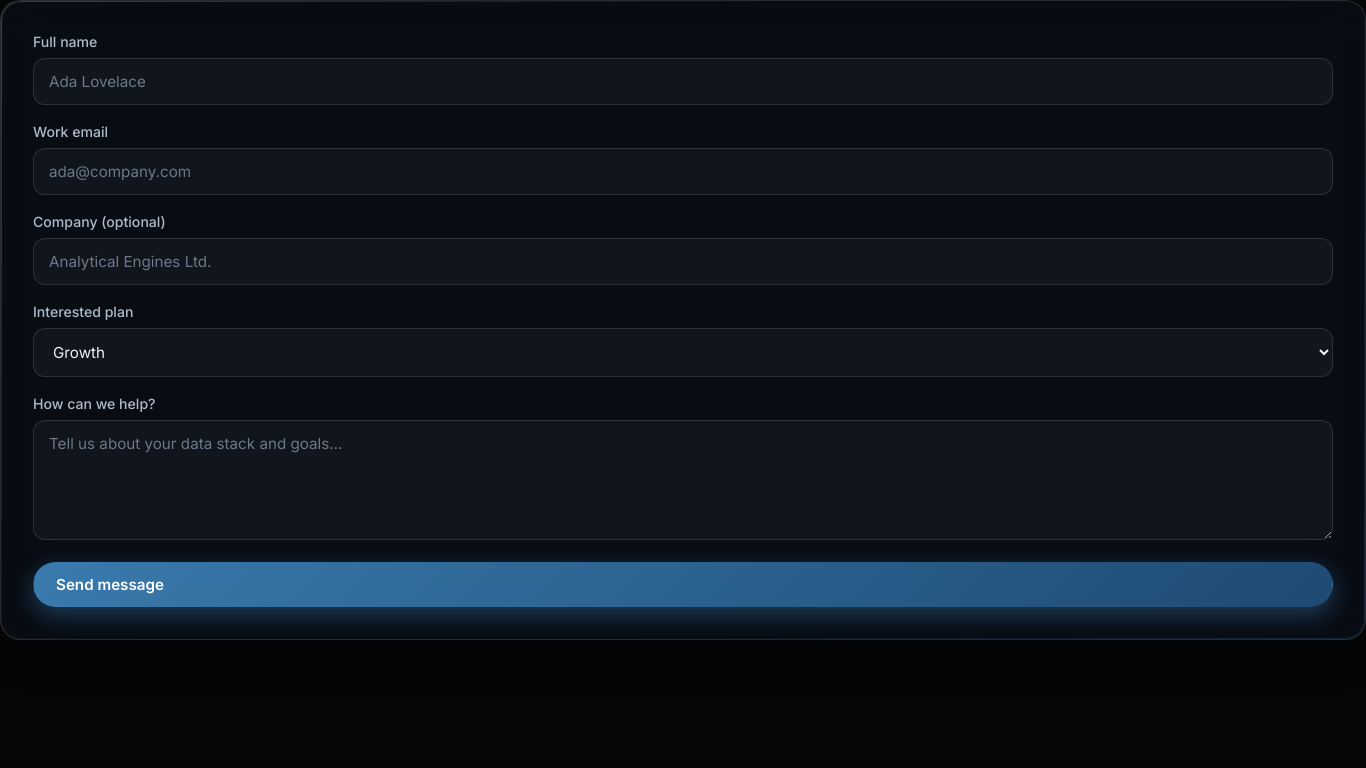
it: <ContactForm /> › clears a field error once the user starts typing
Click the button "Send message": (110, 584) [33,562,1333,607]
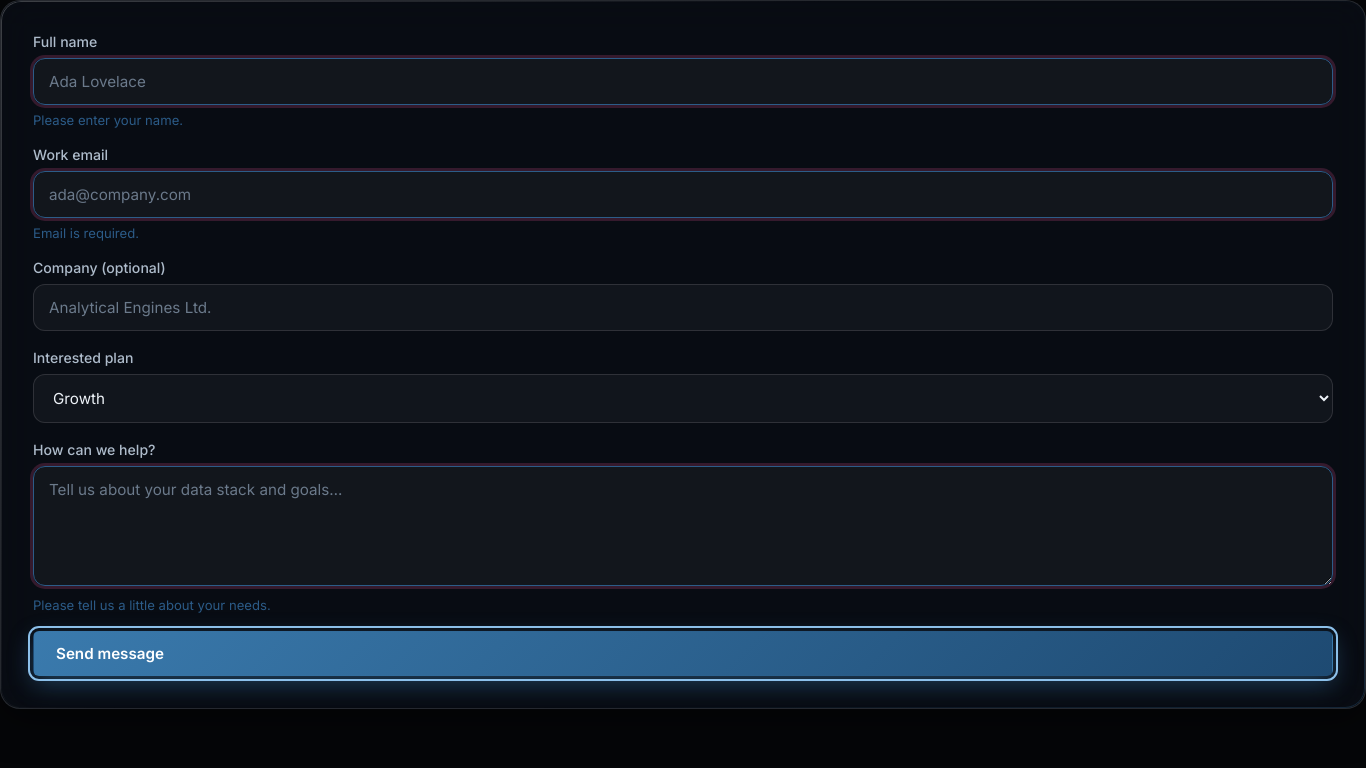
Result: the text "Please enter your name." is shown at [33,112,183,128]
In the field labelled "Full name": (683, 82) [33,58,1333,105], type "A"
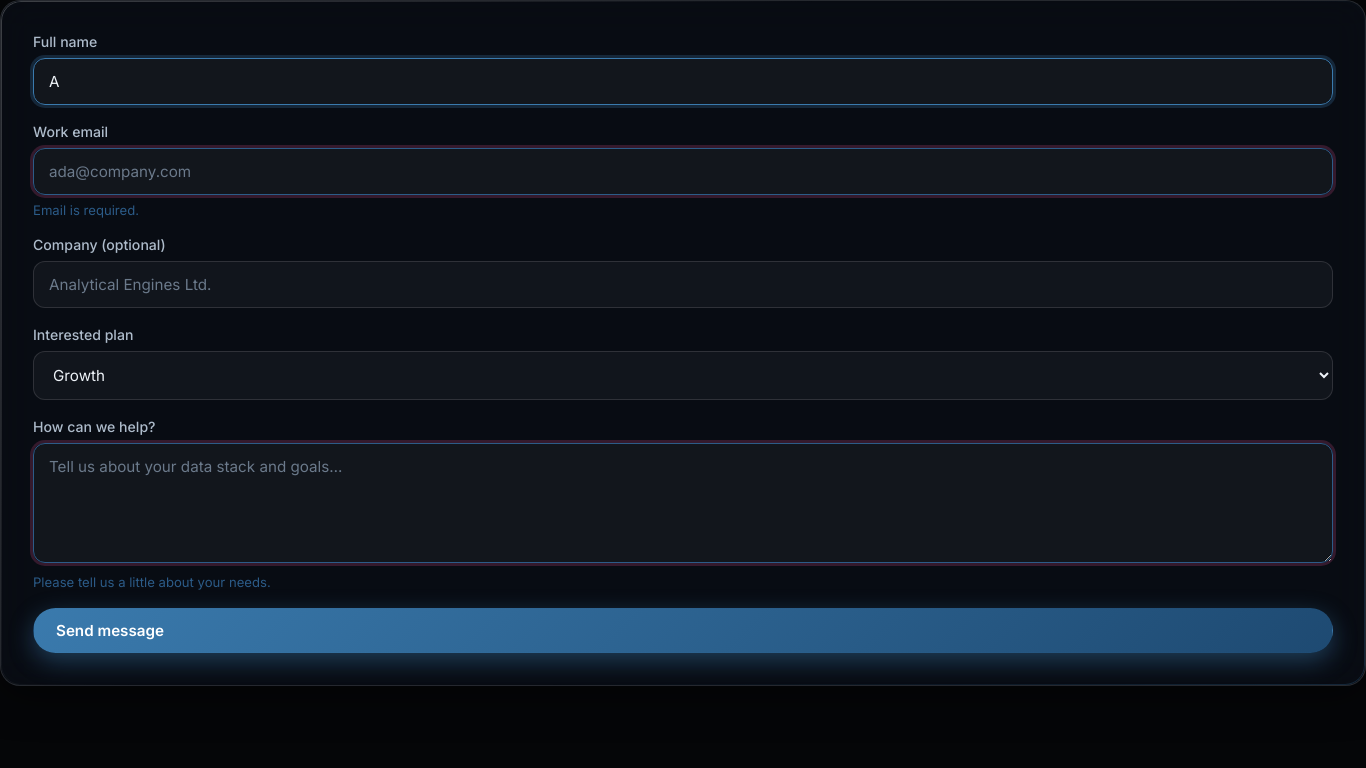
Result: the text "Please enter your name" is gone
